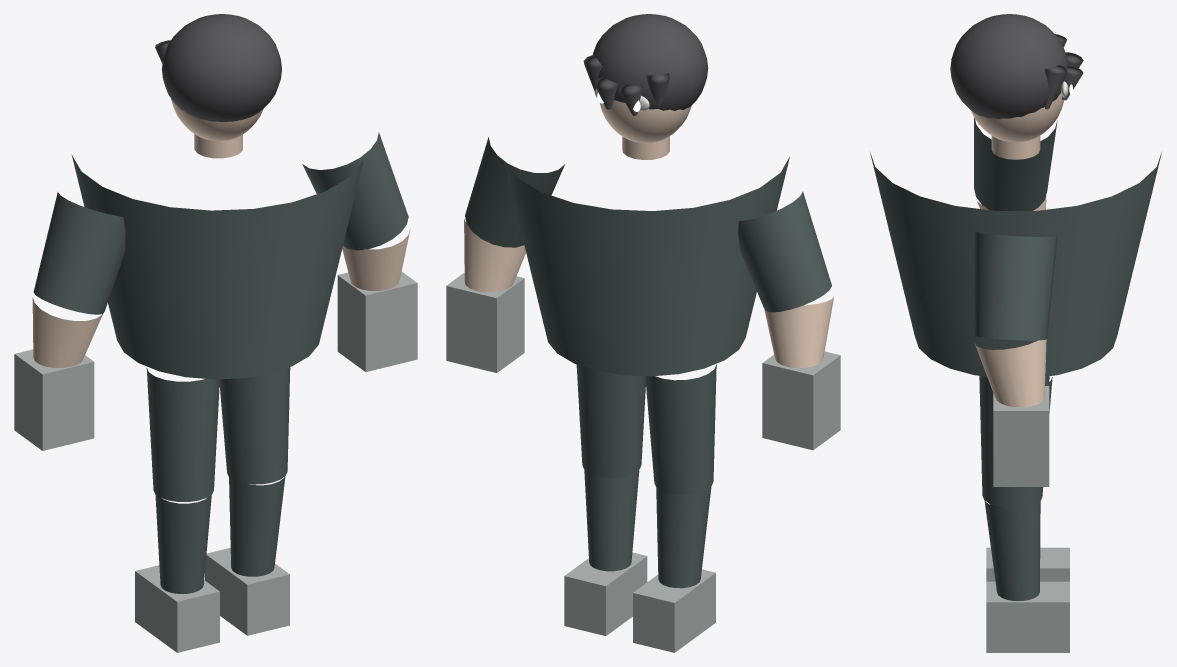
The model's file is chasey-procedural-v1.glb.
3 views of the same model, side by side, from view 1: azimuth 30°, elevation 25°; view 2: azimuth 150°, elevation 25°; view 3: azimuth 270°, elevation 25° (orthographic). The views are drawn at different scales.
Visible parts, largest first — view 1: Outfit_Torso, Hair_Cap, Body_Thigh_L, Body_UpperArm_L, Body_Thigh_R, Weapon_Gauntlet_L, Weapon_Gauntlet_R, Body_UpperArm_R, Outfit_Boot_L, Outfit_Boot_R, Body_Shin_R, Body_Shin_L (+4 smaller); view 2: Outfit_Torso, Hair_Cap, Body_Thigh_L, Body_UpperArm_L, Body_Thigh_R, Weapon_Gauntlet_L, Weapon_Gauntlet_R, Outfit_Boot_L, Outfit_Boot_R, Body_Shin_R, Body_UpperArm_R, Body_Shin_L (+4 smaller); view 3: Outfit_Torso, Hair_Cap, Body_UpperArm_R, Outfit_Boot_R, Weapon_Gauntlet_R, Body_UpperArm_L, Body_Shin_R, Body_Forearm_R, Body_Thigh_R, Body_Head, Outfit_Boot_L, Body_Neck (+1 smaller).
Boxes of the visible parts, x1=… form: Outfit_Torso: x1=72, y1=155, x2=363, y2=379; Hair_Cap: x1=161, y1=14, x2=281, y2=122; Body_Thigh_L: x1=146, y1=368, x2=219, y2=501; Body_UpperArm_L: x1=33, y1=192, x2=125, y2=314; Body_Thigh_R: x1=219, y1=367, x2=290, y2=484; Weapon_Gauntlet_L: x1=14, y1=349, x2=94, y2=450; Weapon_Gauntlet_R: x1=337, y1=272, x2=417, y2=371; Body_UpperArm_R: x1=302, y1=132, x2=408, y2=250; Outfit_Boot_L: x1=135, y1=565, x2=219, y2=652; Outfit_Boot_R: x1=205, y1=547, x2=289, y2=635; Body_Shin_R: x1=229, y1=476, x2=285, y2=576; Body_Shin_L: x1=155, y1=494, x2=211, y2=593; Outfit_Torso: x1=504, y1=157, x2=789, y2=376; Hair_Cap: x1=592, y1=14, x2=708, y2=110; Body_Thigh_L: x1=645, y1=364, x2=716, y2=494; Body_UpperArm_L: x1=738, y1=191, x2=831, y2=312; Body_Thigh_R: x1=576, y1=364, x2=645, y2=477; Weapon_Gauntlet_L: x1=762, y1=351, x2=840, y2=450; Weapon_Gauntlet_R: x1=446, y1=272, x2=524, y2=372; Outfit_Boot_L: x1=633, y1=569, x2=715, y2=652; Outfit_Boot_R: x1=564, y1=552, x2=647, y2=635; Body_Shin_R: x1=584, y1=470, x2=639, y2=571; Body_UpperArm_R: x1=465, y1=137, x2=564, y2=247; Body_Shin_L: x1=656, y1=487, x2=711, y2=588; Outfit_Torso: x1=870, y1=152, x2=1161, y2=376; Hair_Cap: x1=950, y1=14, x2=1068, y2=119; Body_UpperArm_R: x1=974, y1=231, x2=1057, y2=340; Outfit_Boot_R: x1=986, y1=581, x2=1069, y2=652; Weapon_Gauntlet_R: x1=993, y1=386, x2=1049, y2=486; Body_UpperArm_L: x1=974, y1=118, x2=1057, y2=210; Body_Shin_R: x1=984, y1=500, x2=1040, y2=600; Body_Forearm_R: x1=975, y1=339, x2=1046, y2=407; Body_Thigh_R: x1=979, y1=376, x2=1052, y2=508; Body_Head: x1=971, y1=93, x2=1064, y2=142; Outfit_Boot_L: x1=986, y1=547, x2=1069, y2=581; Body_Neck: x1=991, y1=136, x2=1040, y2=159.
Bounding box in the file's own units: 1.2 × 1.86 × 0.8164.
